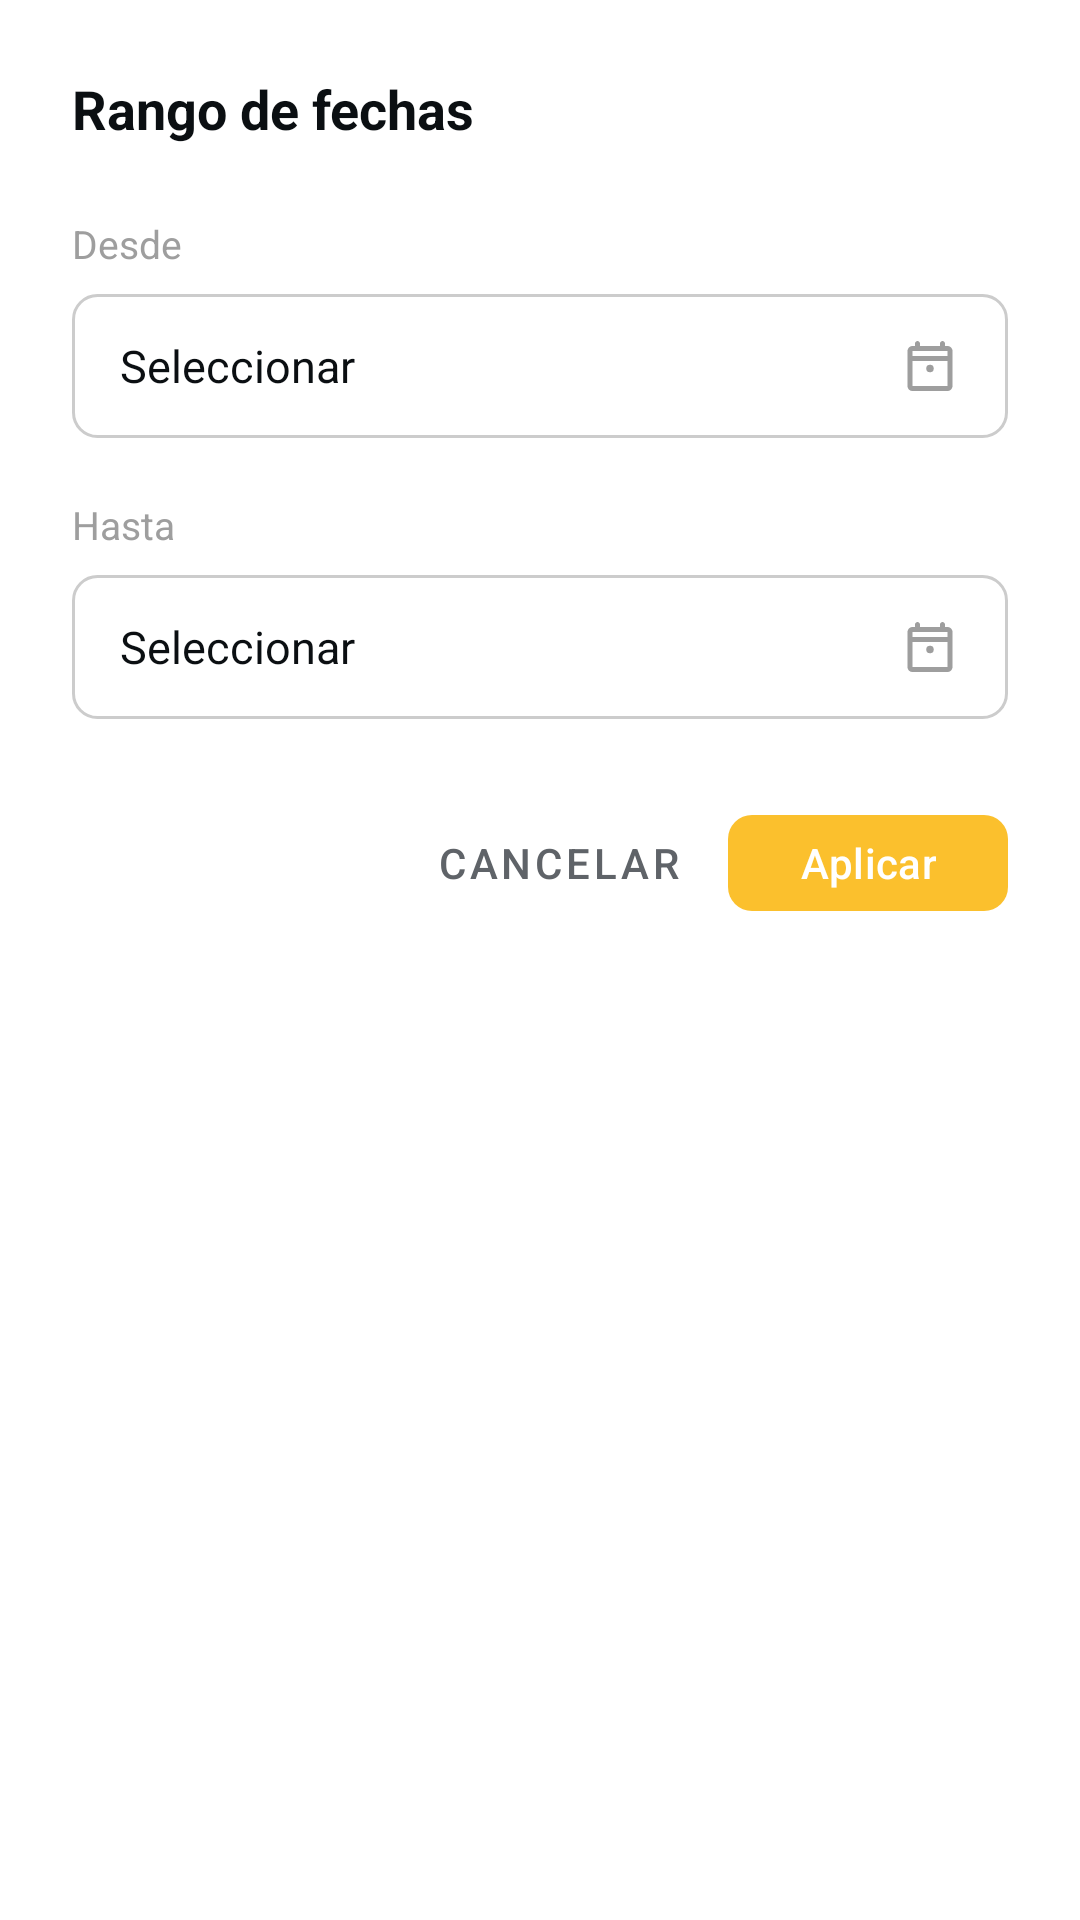

Icons on this 1080x1920 Android screen, each with its box as [left=x1, top=y1, right=x2, bottom=y2]:
calendario: [left=907, top=341, right=953, bottom=391], [left=907, top=622, right=953, bottom=672]
